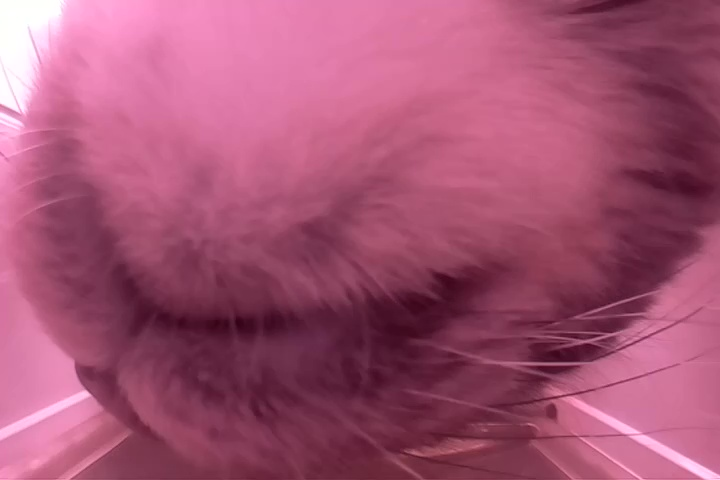Snout: (22, 109, 442, 476)
